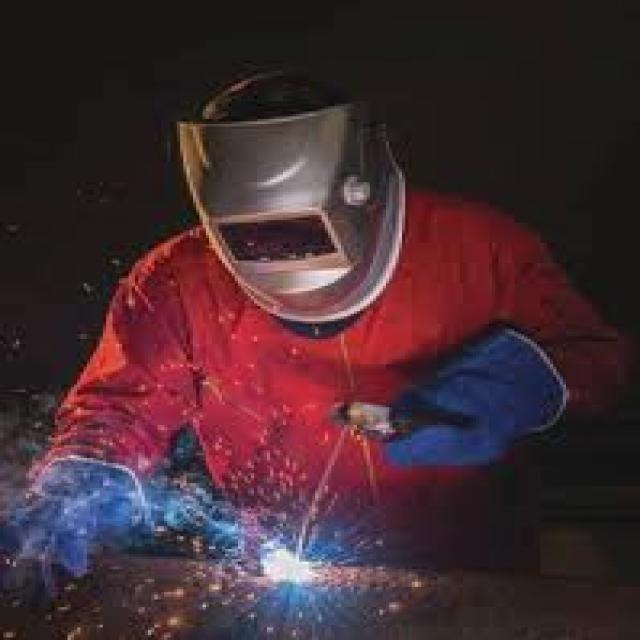welding: (261, 548, 319, 585)
